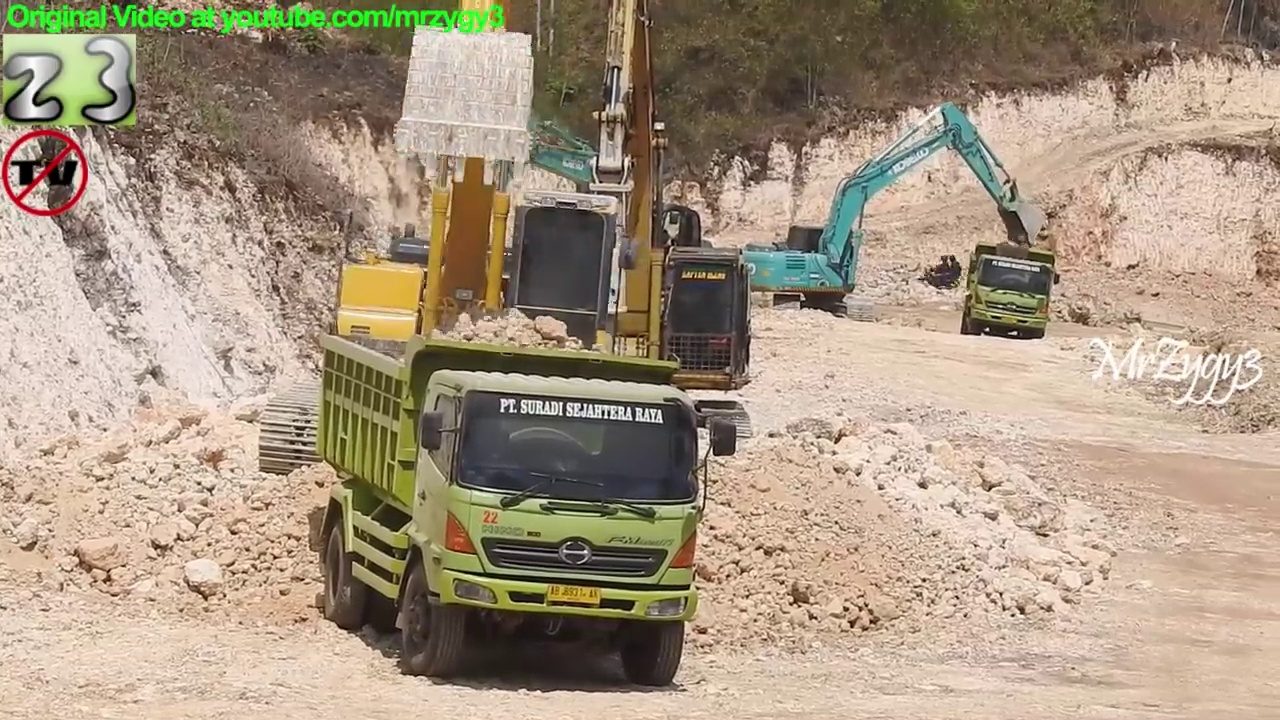excavator: (337, 1, 761, 482), (255, 3, 664, 485), (736, 99, 1048, 320)
truck: (313, 328, 743, 696), (961, 241, 1060, 343)
